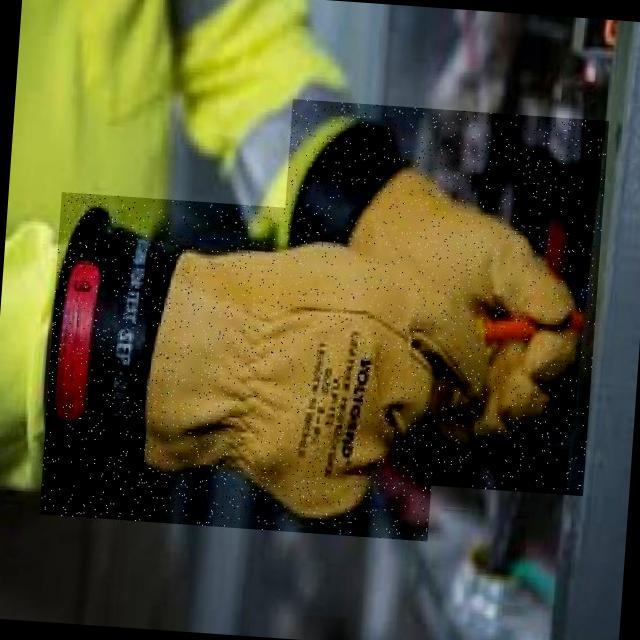Gloves: (39, 192, 450, 541), (267, 99, 609, 496)
